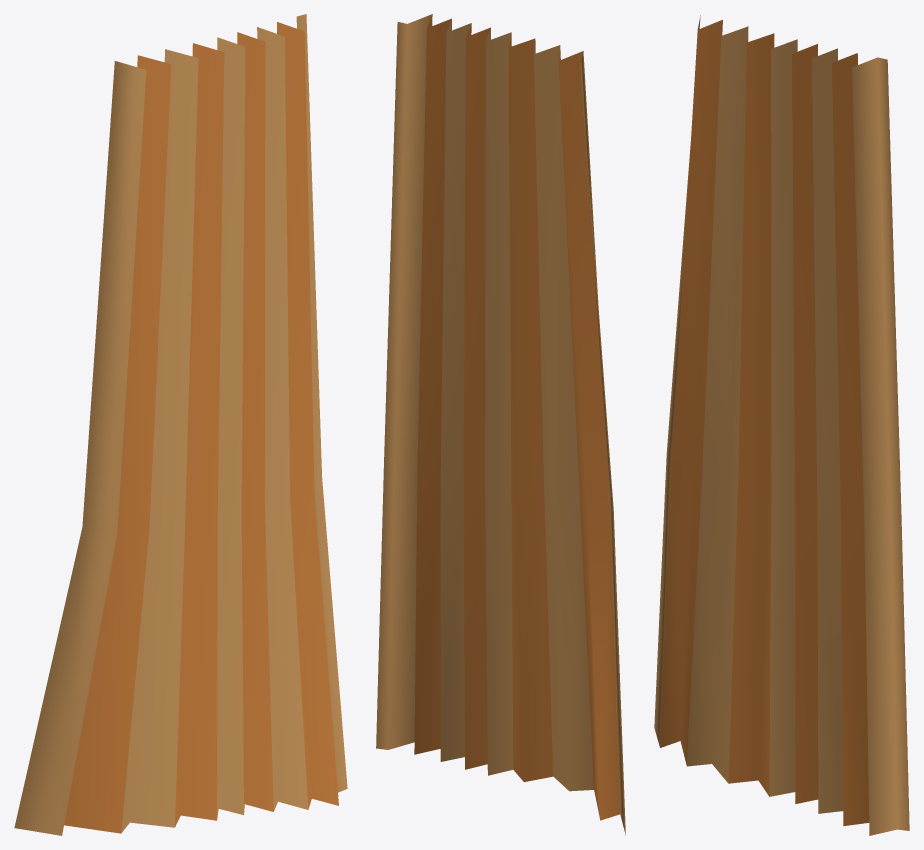
Rendered from M_Rideau_02.fbx.
3 views of the same model, side by side, from view 1: azimuth 30°, elevation 25°; view 2: azimuth 150°, elevation 25°; view 3: azimuth 330°, elevation 25° (orthographic). The views are drawn at different scales.
Parts seen in each view (by area): view 1: SM_Rideau_02; view 2: SM_Rideau_02; view 3: SM_Rideau_02.
Boxes of the visible parts, x1,y1,x2,y2 form: SM_Rideau_02: (14, 14, 347, 835); SM_Rideau_02: (376, 14, 625, 835); SM_Rideau_02: (654, 15, 909, 835).
Bounding box in the file's own units: 25.26 × 83.27 × 208.
